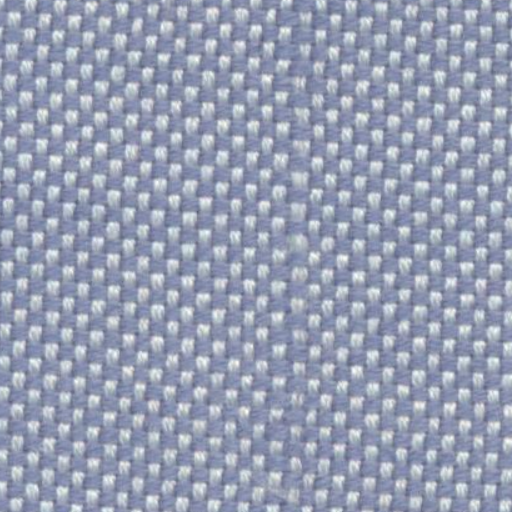TuoSha: (256, 10, 340, 482)
